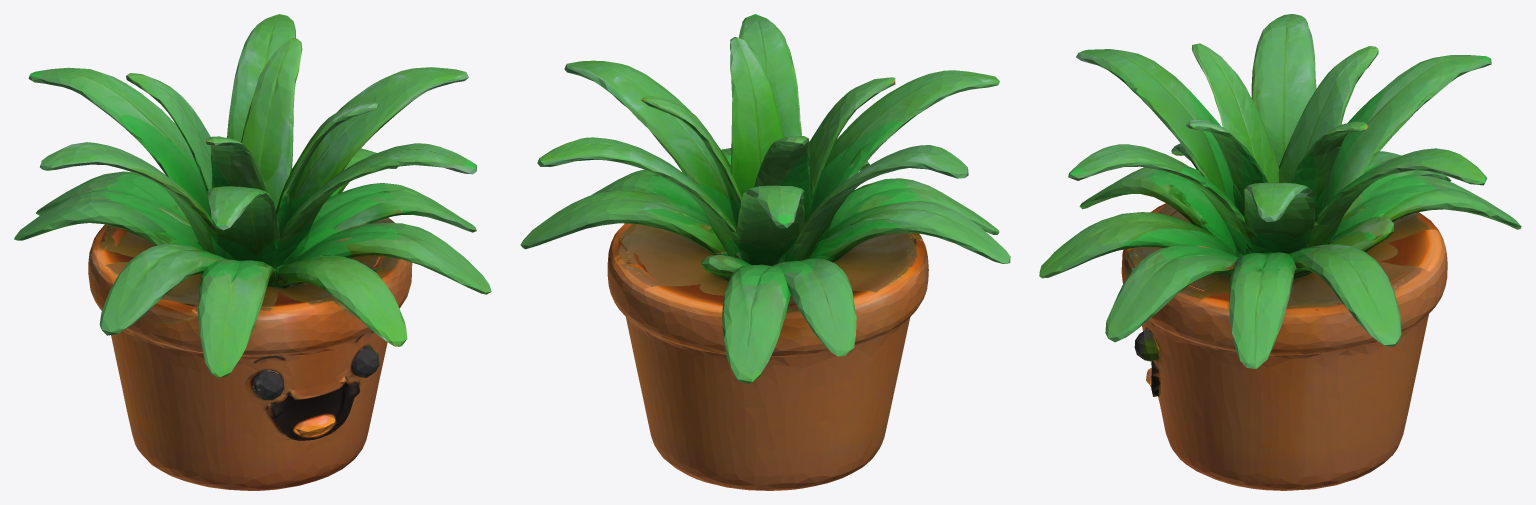
The model's file is Happy_Plant_Pot_0601180807_texture.fbx.
The picture shows the model from 3 angles, left to right: view 1: azimuth 30°, elevation 25°; view 2: azimuth 150°, elevation 25°; view 3: azimuth 270°, elevation 25°; orthographic projection.
Visible parts, largest first — view 1: temp; view 2: temp; view 3: temp.
Boxes of the visible parts, x1,y1,x2,y2 form: temp: (14, 14, 491, 490); temp: (520, 14, 1010, 490); temp: (1039, 14, 1521, 490).
Size of the model in its own units: 200 by 169 by 200.
Materials: 1 (1 with a texture image).
